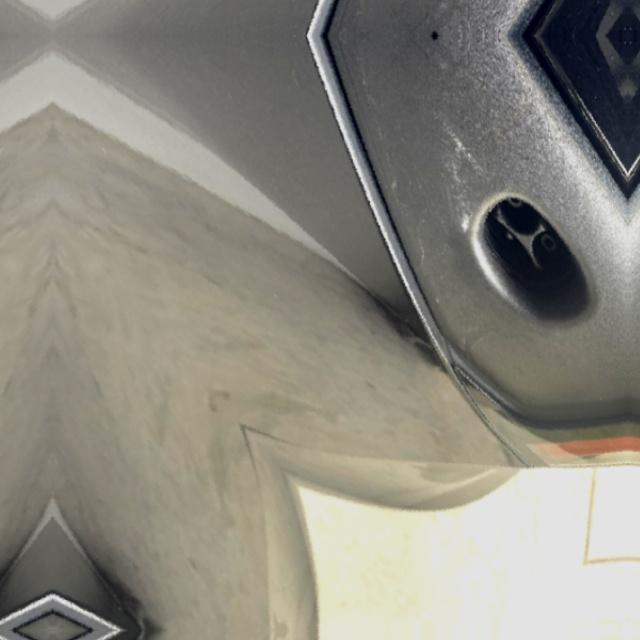Tesla Model-S-: (454, 182, 602, 347)
